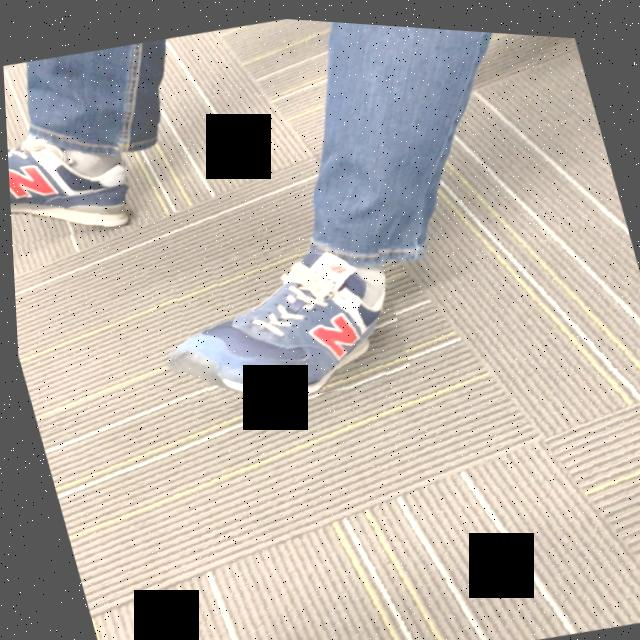shoe: (169, 242, 385, 397), (6, 142, 130, 228)
